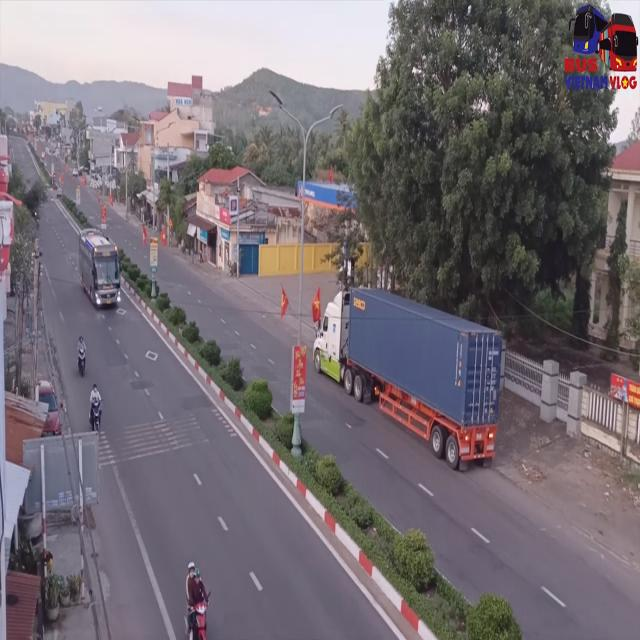bus: (77, 234, 120, 312)
motorbike: (184, 563, 212, 640), (90, 381, 105, 432), (75, 334, 88, 376)
truck: (311, 289, 504, 472)
